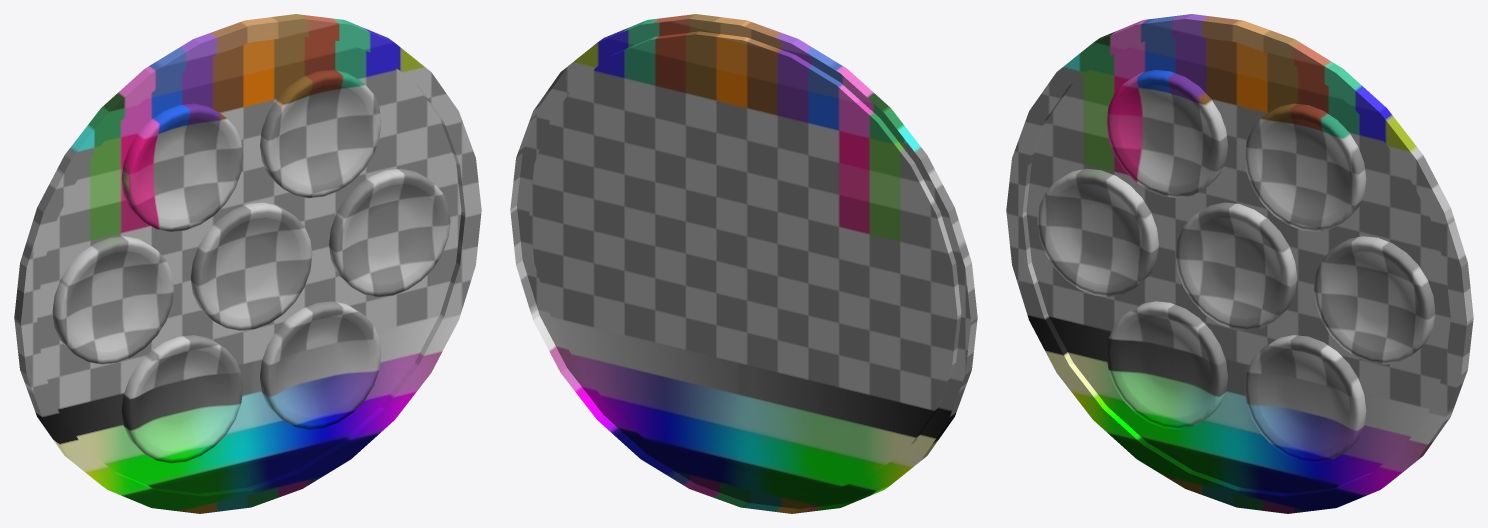
File: RoundPopIt.fbx
3 views of the same model, side by side, from view 1: azimuth 30°, elevation 25°; view 2: azimuth 150°, elevation 25°; view 3: azimuth 330°, elevation 25° (orthographic).
Parts seen in each view (by area): view 1: Cylinder; view 2: Cylinder; view 3: Cylinder.
Boxes of the visible parts, bbox=[...] form: Cylinder: bbox=[14, 14, 481, 513]; Cylinder: bbox=[510, 14, 977, 513]; Cylinder: bbox=[1006, 14, 1473, 513].
Size of the model in its own units: 80 by 80 by 3.08.
